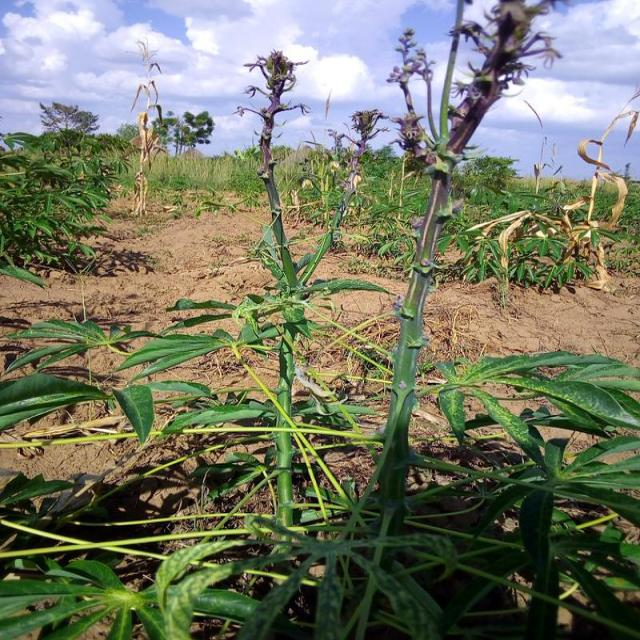cassava leaf: (112, 383, 154, 445)
